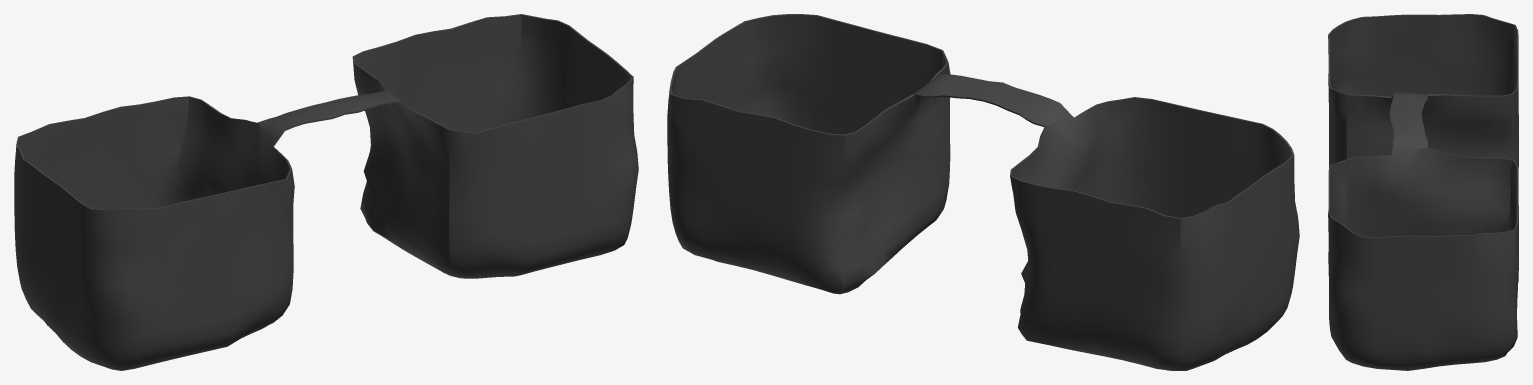
Rendered from tempat barang.fbx.
3 renders of one model, left to right at view 1: azimuth 30°, elevation 25°; view 2: azimuth 150°, elevation 25°; view 3: azimuth 270°, elevation 25°, orthographic. The views are drawn at different scales.
Parts seen in each view (by area): view 1: Cube; view 2: Cube; view 3: Cube.
Boxes of the visible parts, x1,y1,x2,y2 form: Cube: (14, 14, 638, 370); Cube: (667, 14, 1299, 370); Cube: (1328, 14, 1518, 370).
Size of the model in its own units: 103 by 34.36 by 37.46.
